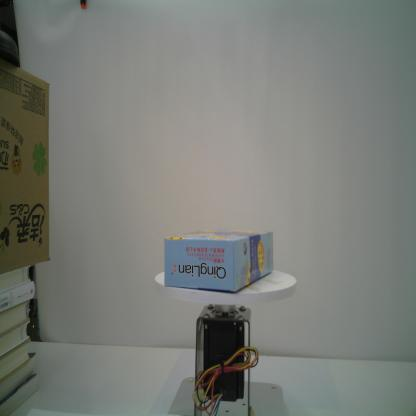Dessert: (164, 229, 274, 292)
